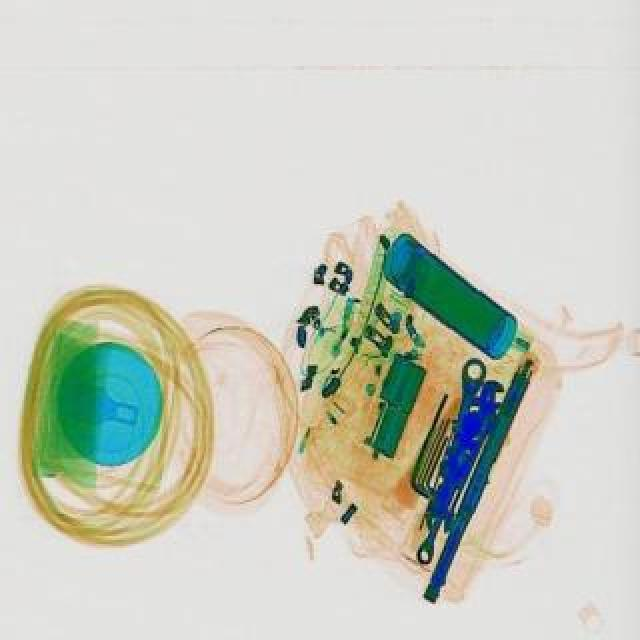scissors: (408, 374, 516, 566)
